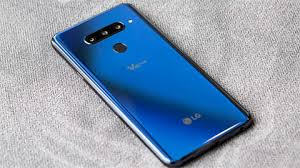lg: (46, 1, 252, 168)
